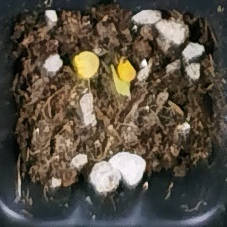chilli seed: (73, 50, 99, 78), (117, 56, 136, 81)
